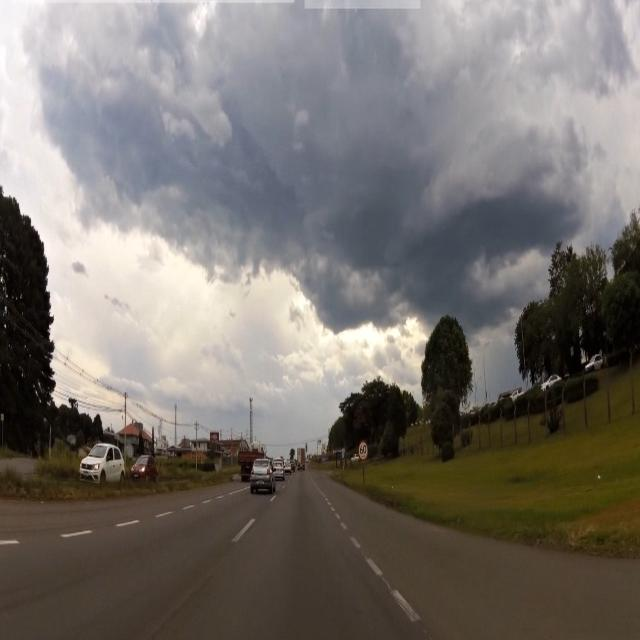R-19: (358, 440, 369, 460)
